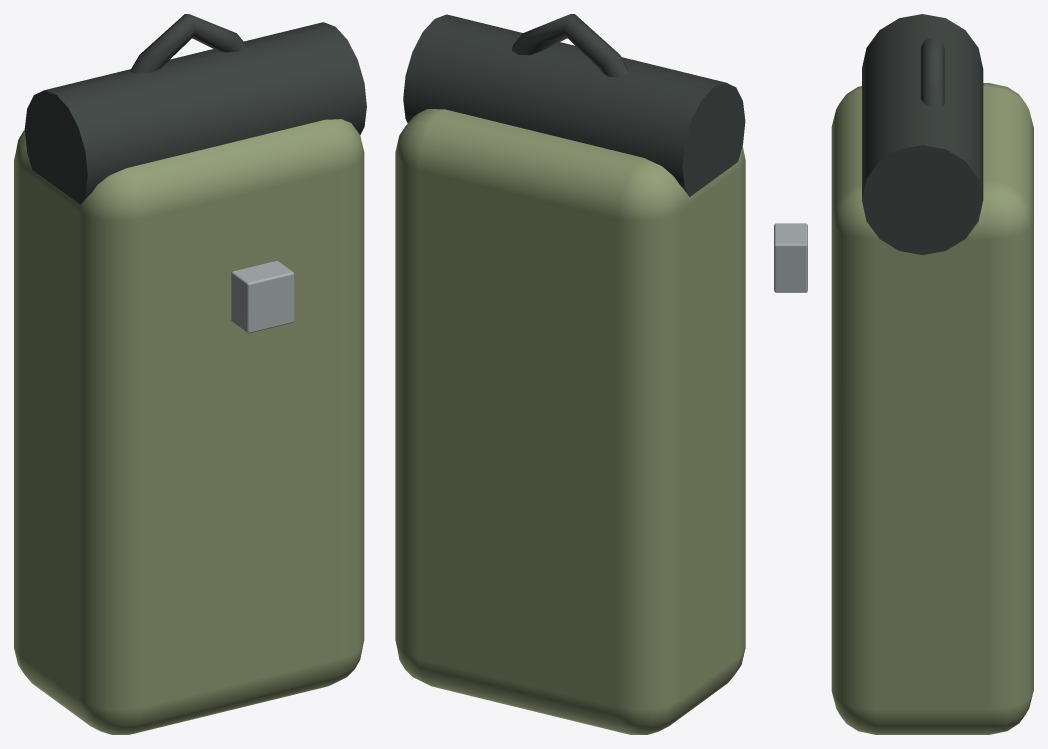
Rendered from backpacks-and-expedition-storage-dry-bag-2cd28608__21077.glb.
The picture shows the model from 3 angles, left to right: view 1: azimuth 30°, elevation 25°; view 2: azimuth 150°, elevation 25°; view 3: azimuth 270°, elevation 25°; orthographic projection. The views are drawn at different scales.
Visible parts, largest first — view 1: dry-bag; view 2: dry-bag; view 3: dry-bag.
Part boxes in pixels (box(x1,y1,x2,y2)): dry-bag: box(14, 14, 366, 734); dry-bag: box(395, 14, 745, 734); dry-bag: box(774, 14, 1033, 734).
Size of the model in its own units: 0.2312 by 0.529 by 0.1925.
